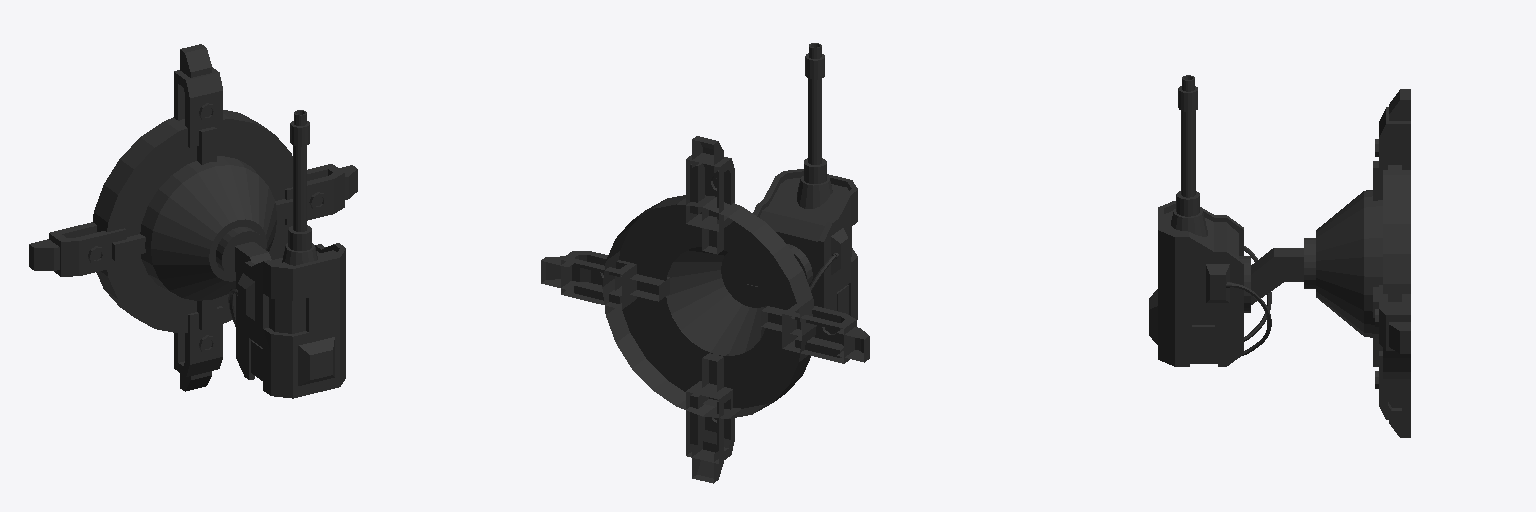
The model's file is turret01.obj.
3 views of the same model, side by side, from view 1: azimuth 30°, elevation 25°; view 2: azimuth 150°, elevation 25°; view 3: azimuth 270°, elevation 25° (orthographic).
Parts seen in each view (by area): view 1: Legs_low_Куб.001, turret, Top_Base_low_Цилиндр.003, Cover_low_Куб.002, Decor_002_low_Куб.016, Body_low_Куб.003, Gear_Bottom_low_Цилиндр.005, Decor_000_low_Куб.013, Neck_low_Цилиндр.004; view 2: turret, Legs_low_Куб.001, Top_Base_low_Цилиндр.003, Cover_low_Куб.002, Body_low_Куб.003, Decor_000_low_Куб.013; view 3: Cover_low_Куб.002, Top_Base_low_Цилиндр.003, Legs_low_Куб.001, turret, Neck_low_Цилиндр.004, Body_low_Куб.003, Decor_000_low_Куб.013, Decor_001_low_Куб.017, Cable_low_КриваяБезье.004, Gear_Bottom_low_Цилиндр.005.
Part boxes in pixels (x1,y1,x2,y2): Legs_low_Куб.001: (29,44,357,391); turret: (93,110,292,333); Top_Base_low_Цилиндр.003: (140,156,276,300); Cover_low_Куб.002: (236,243,345,398); Decor_002_low_Куб.016: (298,337,334,385); Body_low_Куб.003: (255,250,336,333); Gear_Bottom_low_Цилиндр.005: (216,227,265,278); Decor_000_low_Куб.013: (238,273,254,320); Neck_low_Цилиндр.004: (235,242,271,271); turret: (602,195,816,418); Legs_low_Куб.001: (541,136,869,483); Top_Base_low_Цилиндр.003: (666,247,766,355); Cover_low_Куб.002: (753,169,857,319); Body_low_Куб.003: (760,178,851,305); Decor_000_low_Куб.013: (831,228,847,274); Cover_low_Куб.002: (1158,201,1243,366); Top_Base_low_Цилиндр.003: (1316,190,1382,338); Legs_low_Куб.001: (1373,89,1410,437); turret: (1383,165,1410,378); Neck_low_Цилиндр.004: (1251,248,1303,304); Body_low_Куб.003: (1164,210,1238,357); Decor_000_low_Куб.013: (1206,264,1229,302); Decor_001_low_Куб.017: (1192,325,1214,358); Cable_low_КриваяБезье.004: (1232,246,1271,355); Gear_Bottom_low_Цилиндр.005: (1304,238,1315,288).
Bounding box in the file's own units: 3.24 × 3.39 × 2.28.